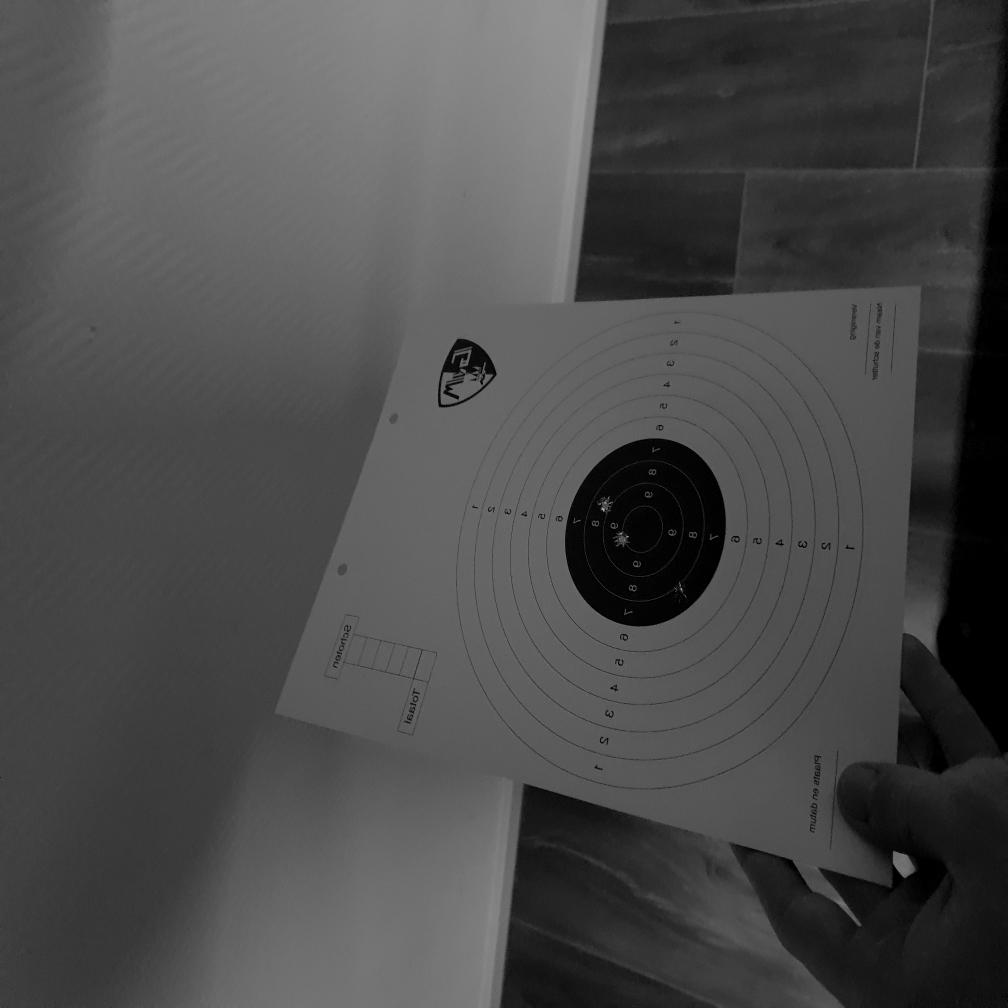10: (614, 530, 628, 548)
8: (673, 582, 688, 604)
9: (596, 496, 614, 514)
Target: (455, 309, 864, 790)
black_contour: (565, 438, 726, 627)
